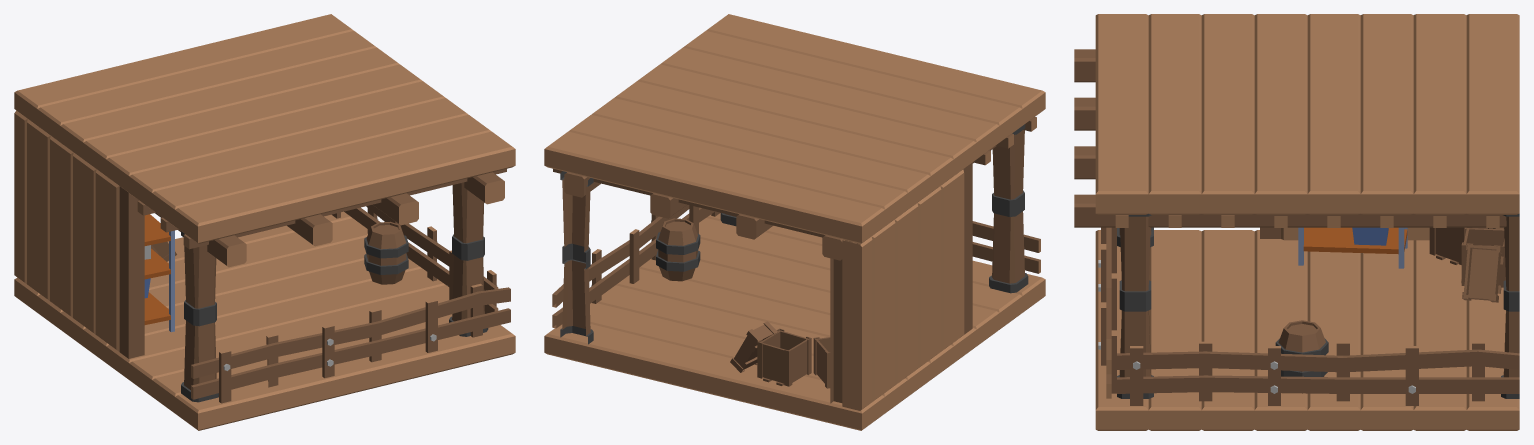
Rendered from ResourceStorage_Lvl_01_Corner_Left.fbx.
The picture shows the model from 3 angles, left to right: view 1: azimuth 30°, elevation 25°; view 2: azimuth 150°, elevation 25°; view 3: azimuth 270°, elevation 25°; orthographic projection. The views are drawn at different scales.
Visible parts, largest first — view 1: ResourceStorage_Lvl_01_Corner_Left; view 2: ResourceStorage_Lvl_01_Corner_Left; view 3: ResourceStorage_Lvl_01_Corner_Left.
Part boxes in pixels (<box>): ResourceStorage_Lvl_01_Corner_Left: <box>14,14,515,430</box>; ResourceStorage_Lvl_01_Corner_Left: <box>544,14,1045,430</box>; ResourceStorage_Lvl_01_Corner_Left: <box>1074,14,1519,430</box>.
Size of the model in its own units: 8 by 5 by 8.4.
